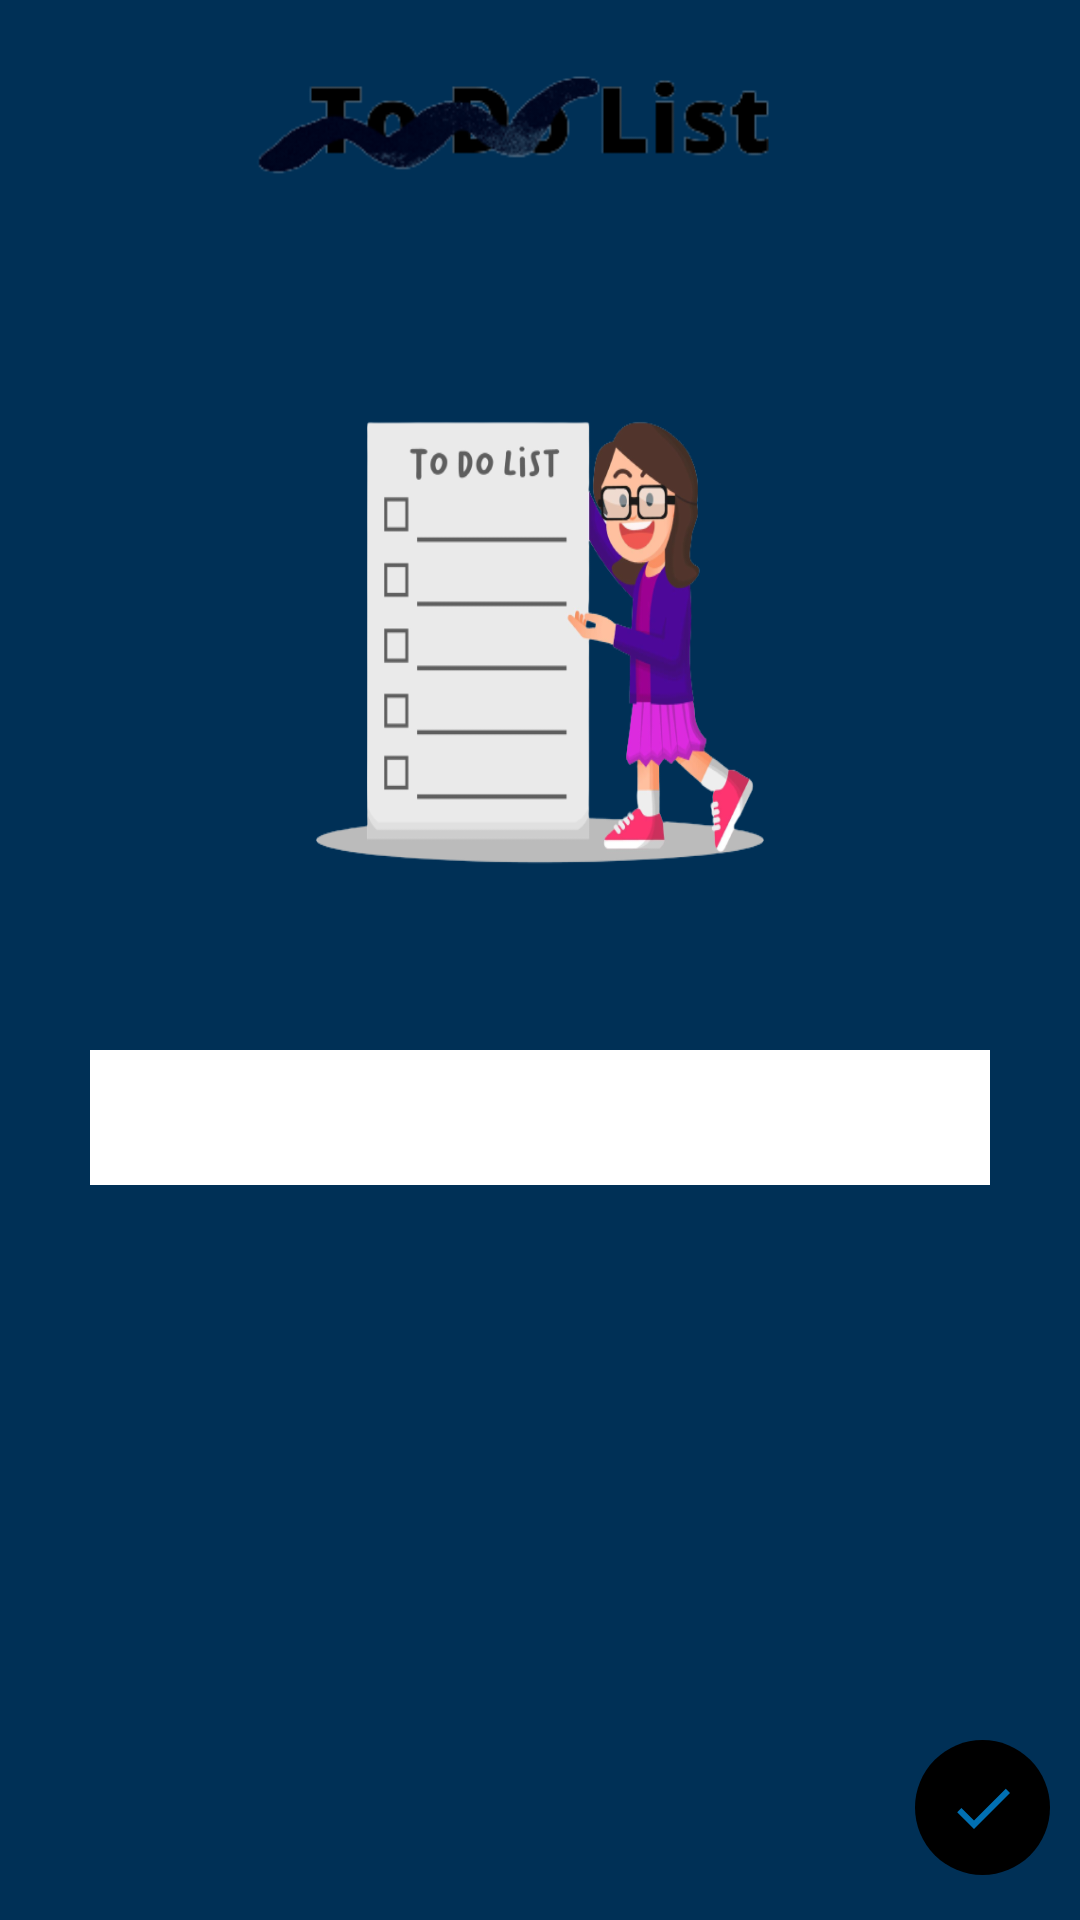

Icons on this 1080*1920 Android screen, each with the point to tap as point (x, y):
done: point (982, 1807)
